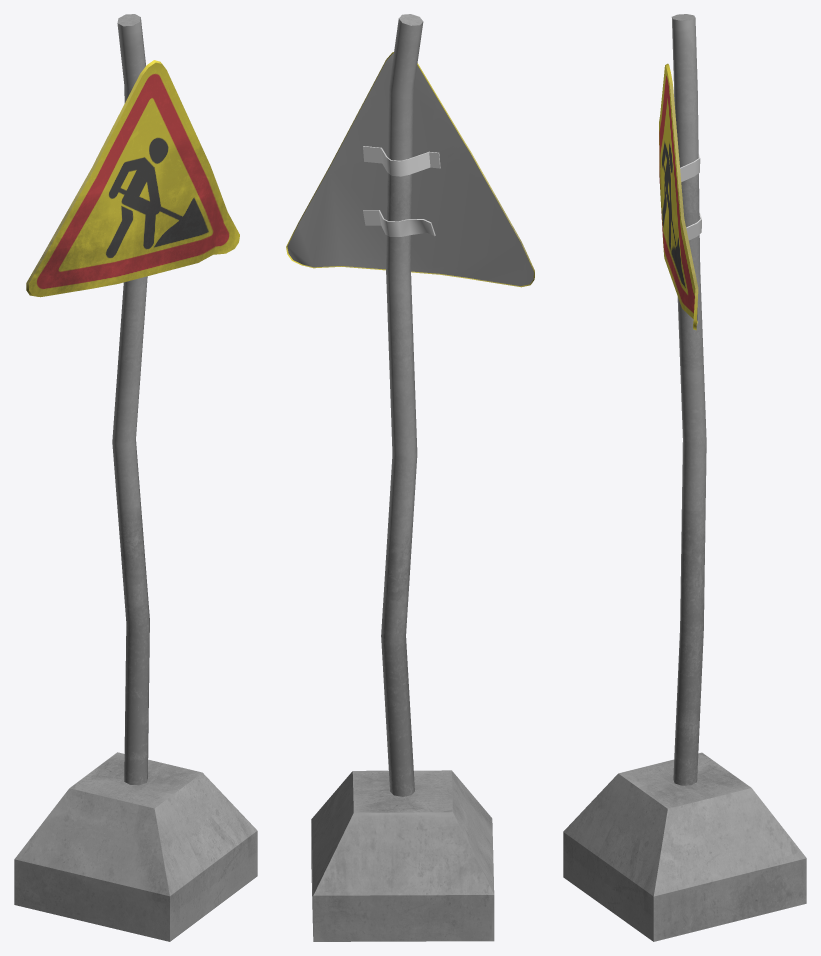
Rendered from TabelRrugore(PoPunohetPerpara).fbx.
The picture shows the model from 3 angles, left to right: view 1: azimuth 30°, elevation 25°; view 2: azimuth 150°, elevation 25°; view 3: azimuth 270°, elevation 25°; orthographic projection.
Parts seen in each view (by area): view 1: base_LP_Cube, sign_LP_Plane, stick_LP_Cube.001; view 2: base_LP_Cube, sign_LP_Plane, stick_LP_Cube.001, mount_1_LP_Cube.006, mount_2_LP_Cube.007; view 3: base_LP_Cube, stick_LP_Cube.001, sign_LP_Plane.
Boxes of the visible parts, box(x1,y1,x2,y2) form: base_LP_Cube: box(14, 752, 257, 941); sign_LP_Plane: box(26, 60, 239, 297); stick_LP_Cube.001: box(112, 14, 149, 785); base_LP_Cube: box(311, 770, 494, 941); sign_LP_Plane: box(286, 52, 534, 287); stick_LP_Cube.001: box(381, 14, 423, 796); mount_1_LP_Cube.006: box(363, 146, 440, 176); mount_2_LP_Cube.007: box(363, 210, 435, 236); base_LP_Cube: box(563, 752, 806, 941); stick_LP_Cube.001: box(671, 14, 706, 785); sign_LP_Plane: box(659, 63, 698, 330).
Bounding box in the file's own units: 243 × 886 × 225.
5 materials, 4 textured.
